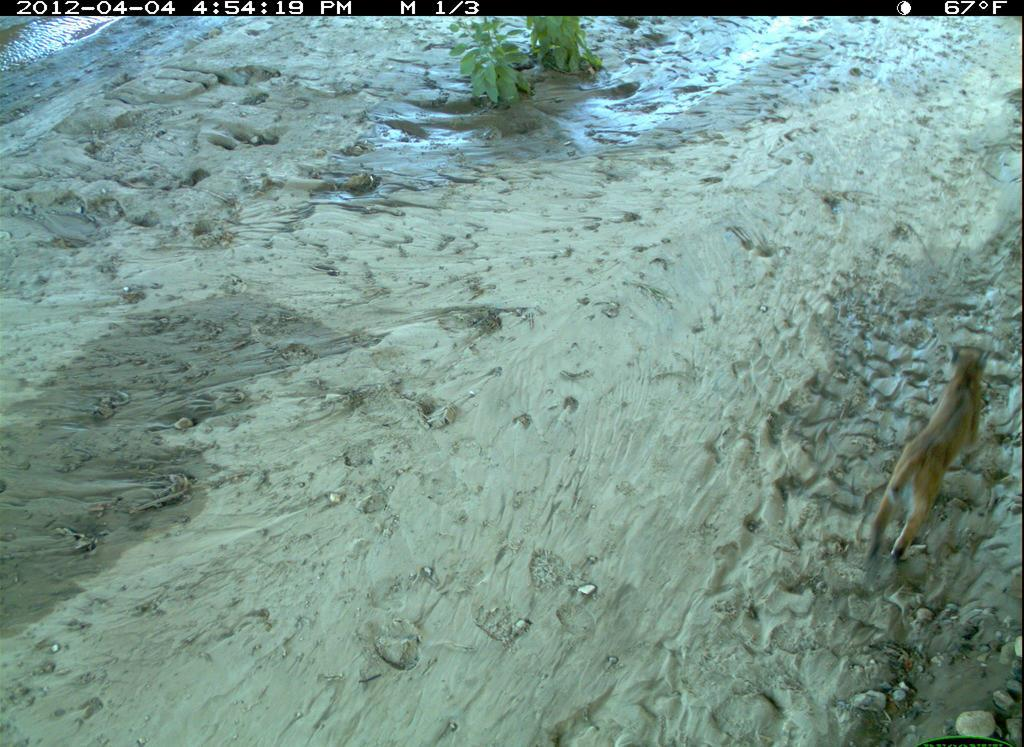bobcat: (863, 340, 994, 571)
